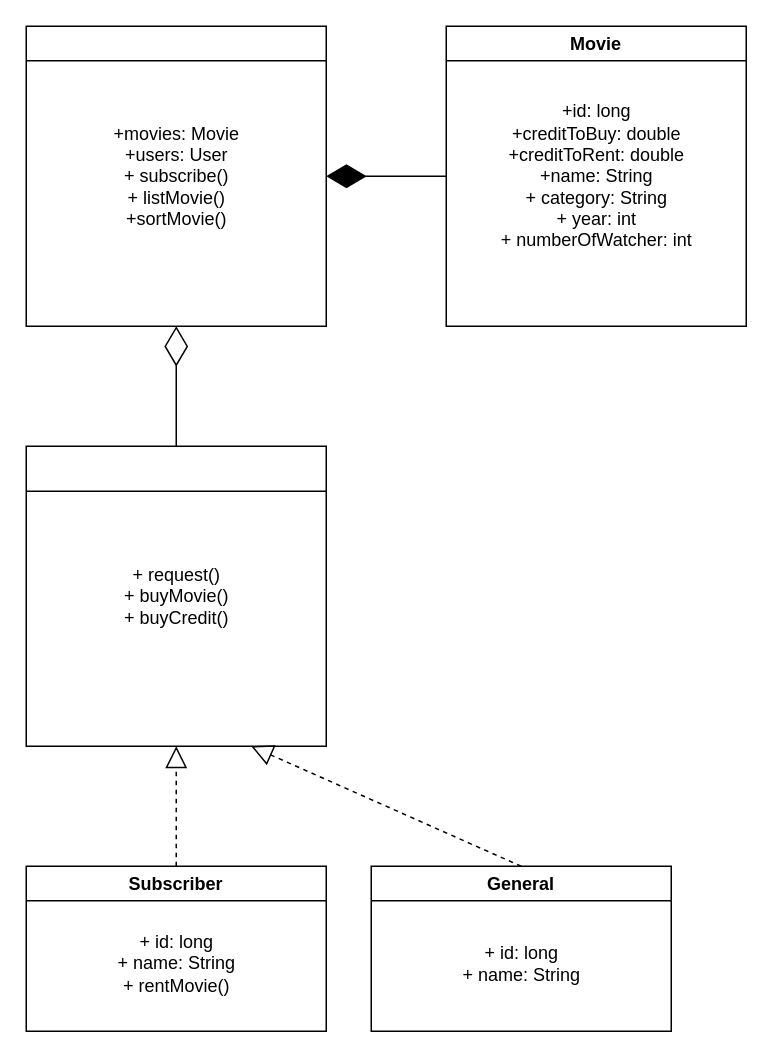
The diagram is 773 pixels wide and 1058 high, and some of its shapes have lost their labels. Here are the shapes that lost their labels. From the top down, the box of each, then its label:
(25, 25, 326, 326): App
(25, 445, 326, 746): <<interface>> User
